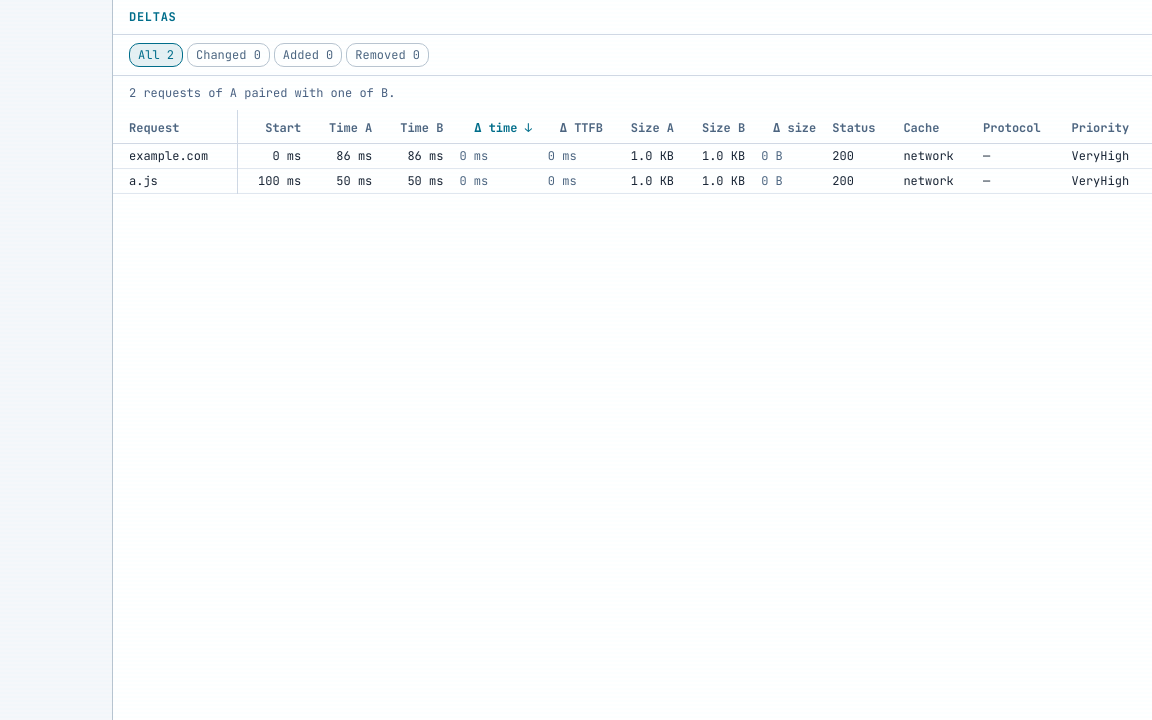
RequestDeltas › says when a filter leaves nothing
Click the button "Added 0": (308, 55) left=274, top=43, right=342, bottom=67
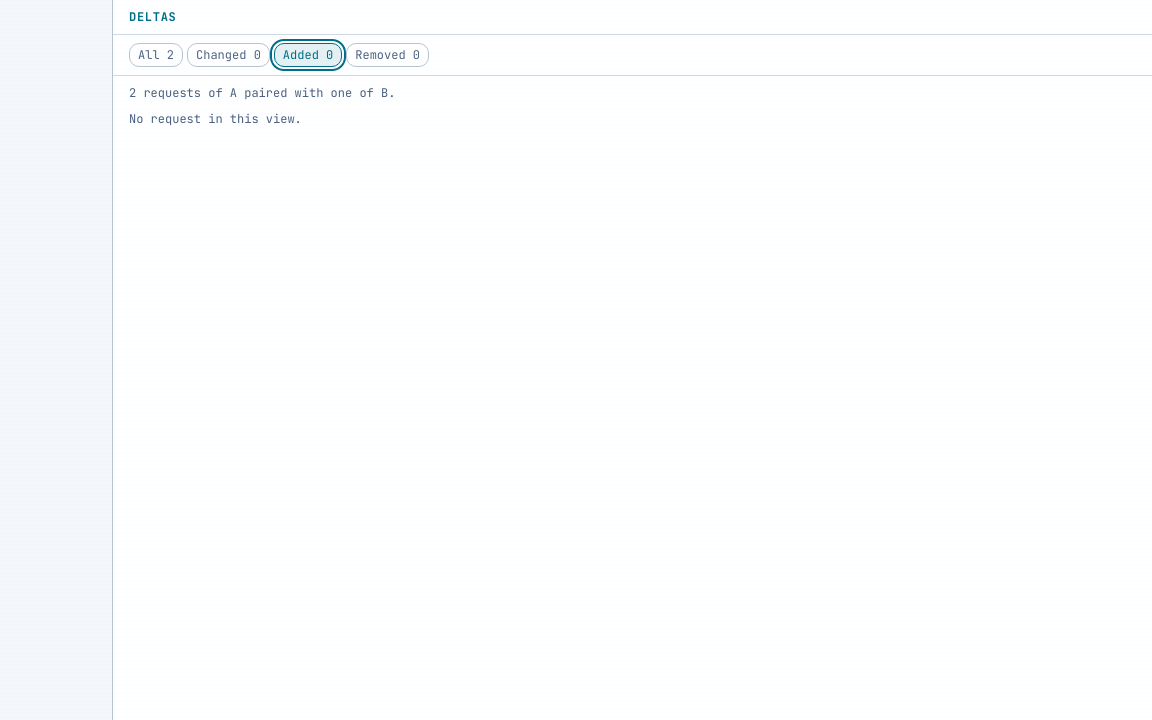
Expected: the table "Request deltas" is not shown
Expected: the text "No request in this view." is shown, left=129, top=111, right=302, bottom=127
